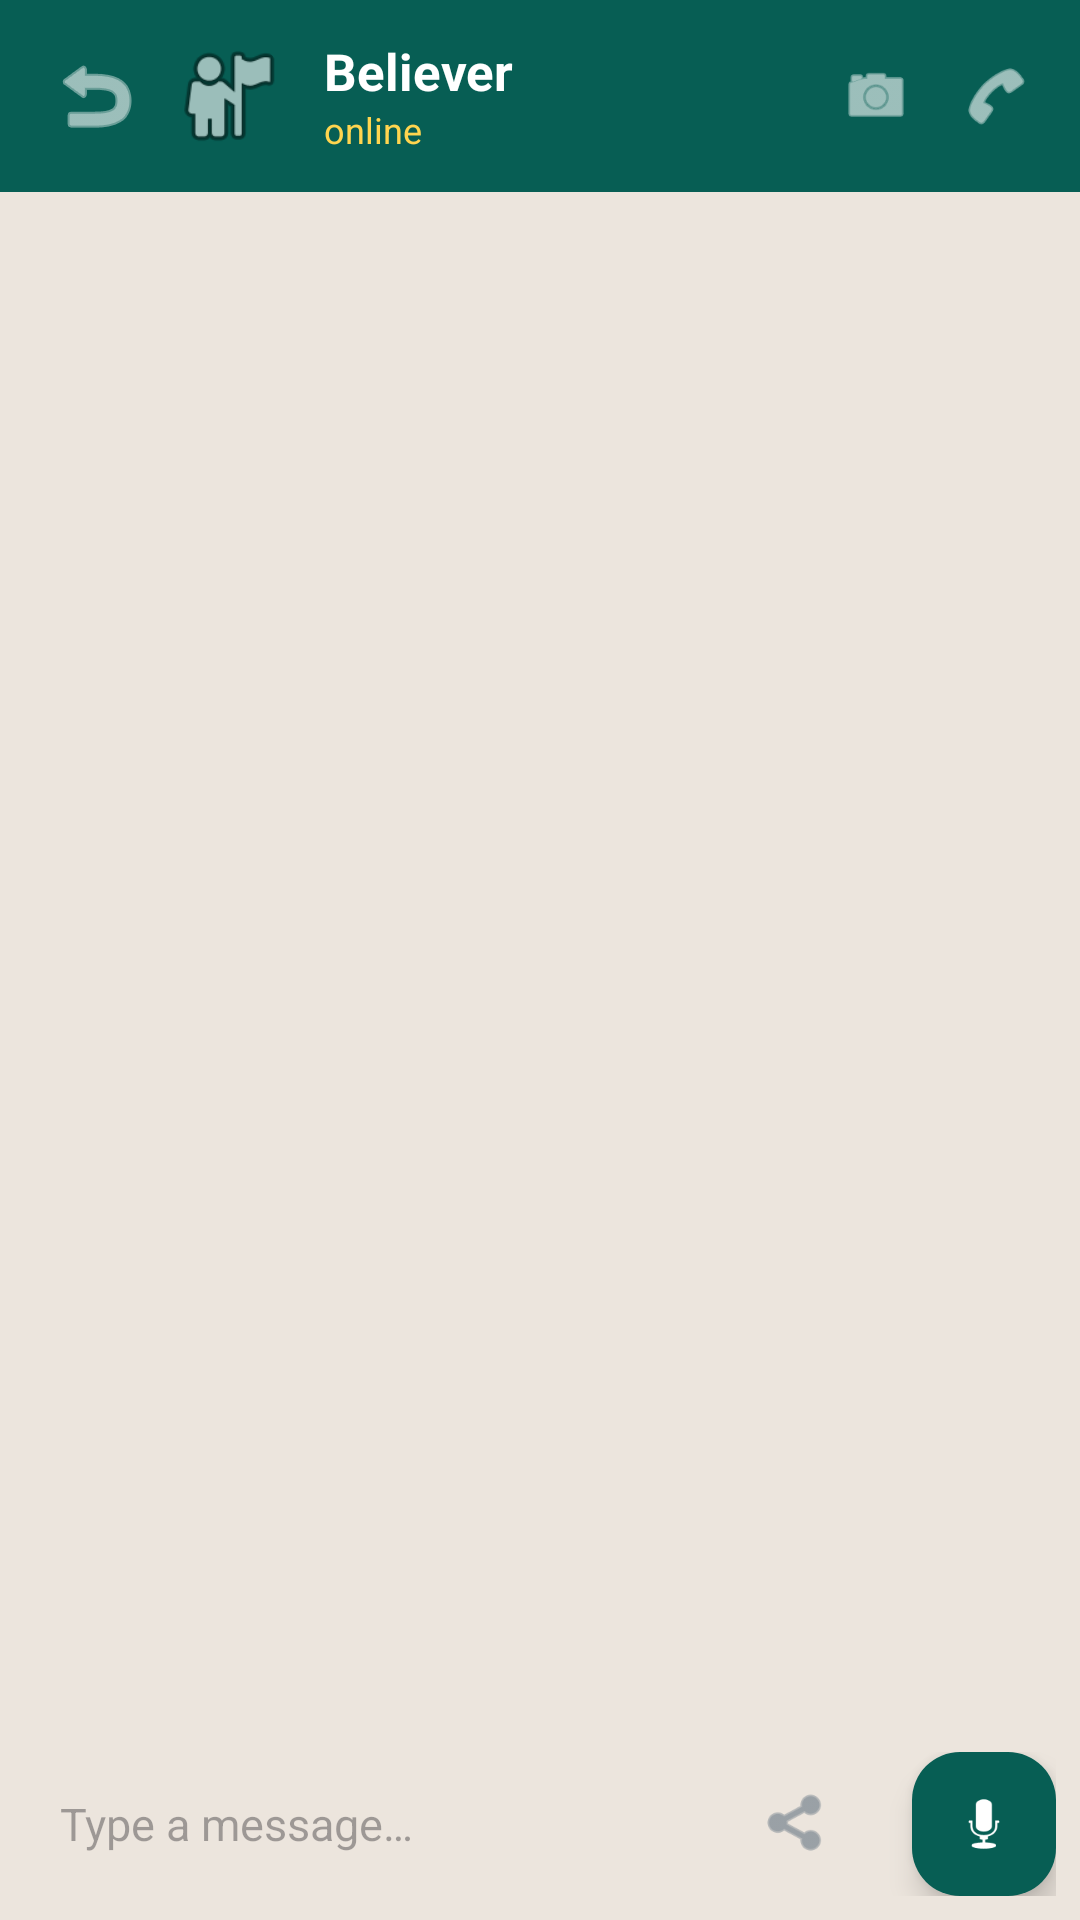

Screen size 1080 x 1920. Icon name, then its box in pixels as (x1, y1, x2, y2):
call: (968, 68, 1025, 125)
camera: (848, 73, 904, 117)
revert: (63, 65, 132, 128)
share: (767, 1795, 821, 1851)
speak now: (912, 1752, 1056, 1896)
